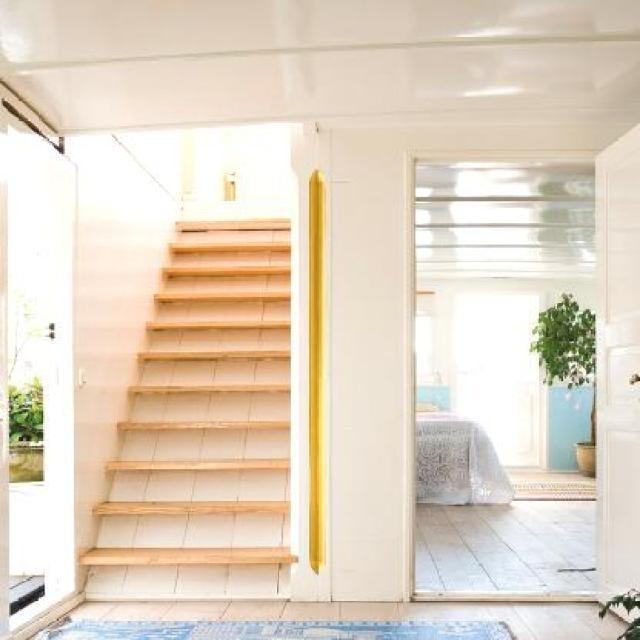stair: (45, 163, 378, 612)
